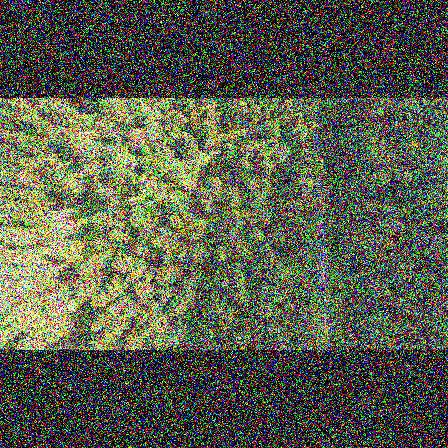Sick: (429, 230, 444, 249), (103, 305, 120, 319), (262, 159, 275, 175), (231, 242, 244, 257), (424, 310, 439, 322), (431, 323, 443, 334)
